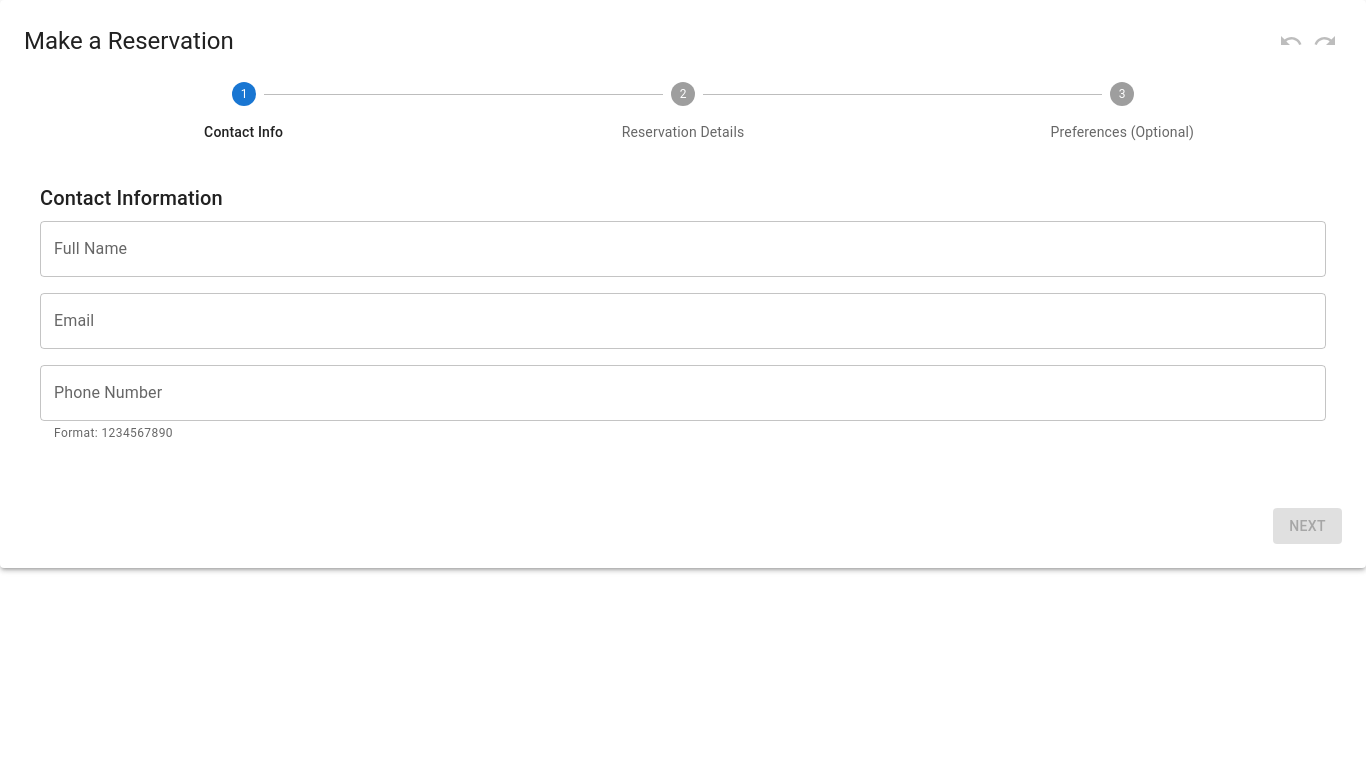
it: BookingForm JavaScript Validation › displays error for invalid phone number
In the field labelled "Phone Number": (683, 393) x1=40 y1=365 x2=1326 y2=421, type "123"
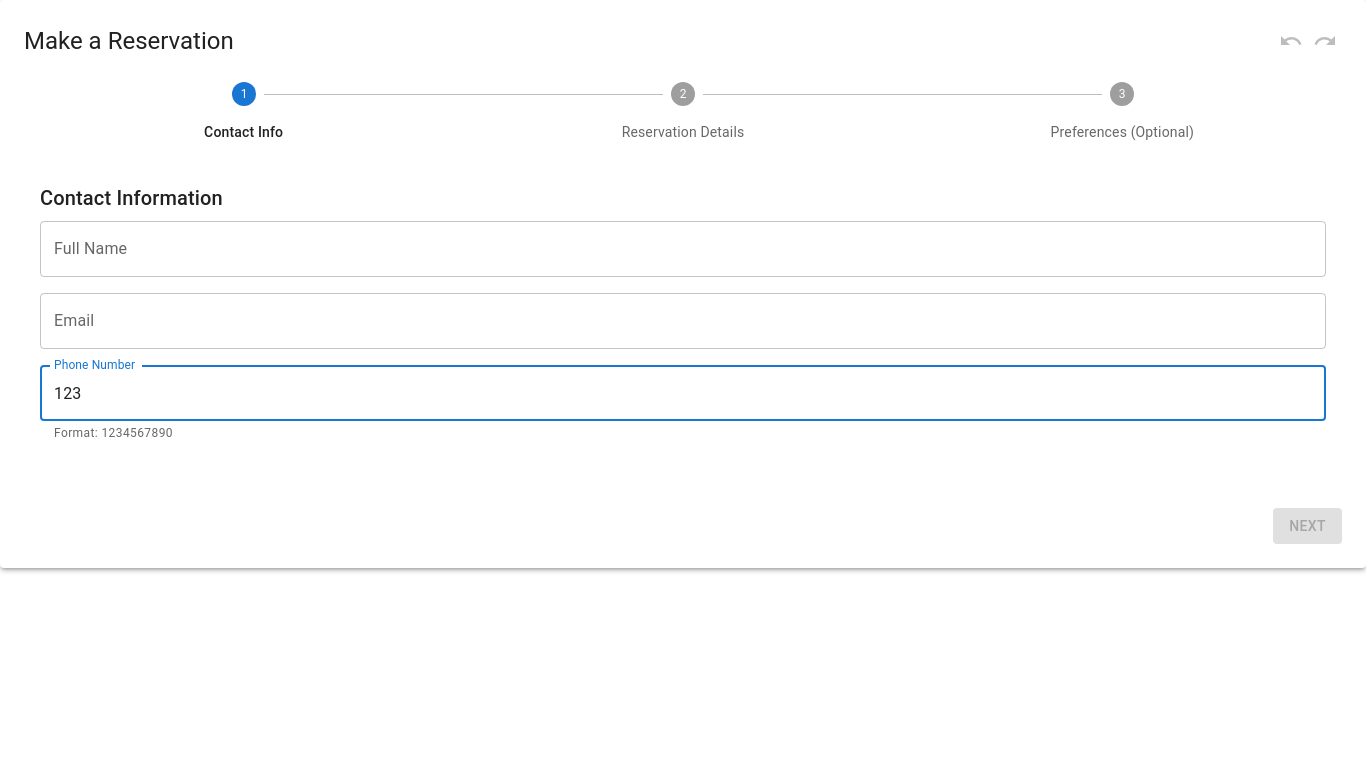
Leave the field labelled "Phone Number", box x1=40 y1=365 x2=1326 y2=421
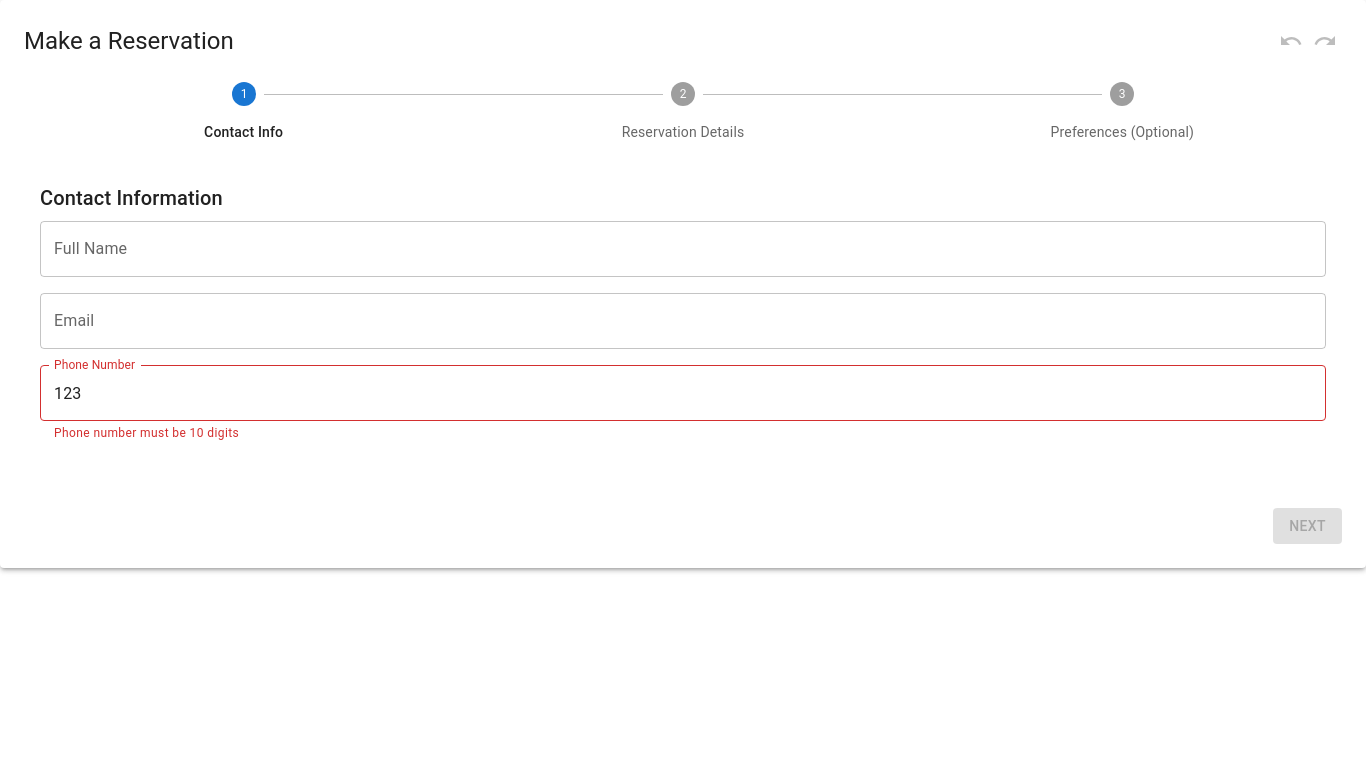
Now the text "Phone number must be 10 digits" is shown, box x1=54 y1=426 x2=239 y2=440
